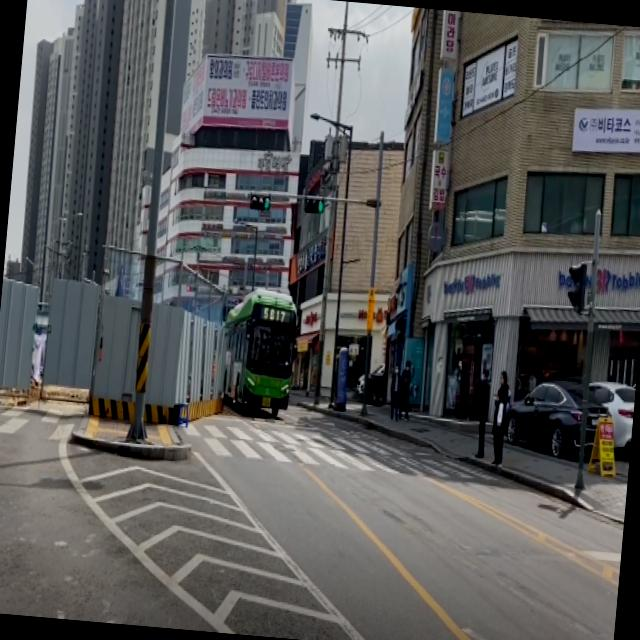bus-number: (262, 306, 286, 324)
